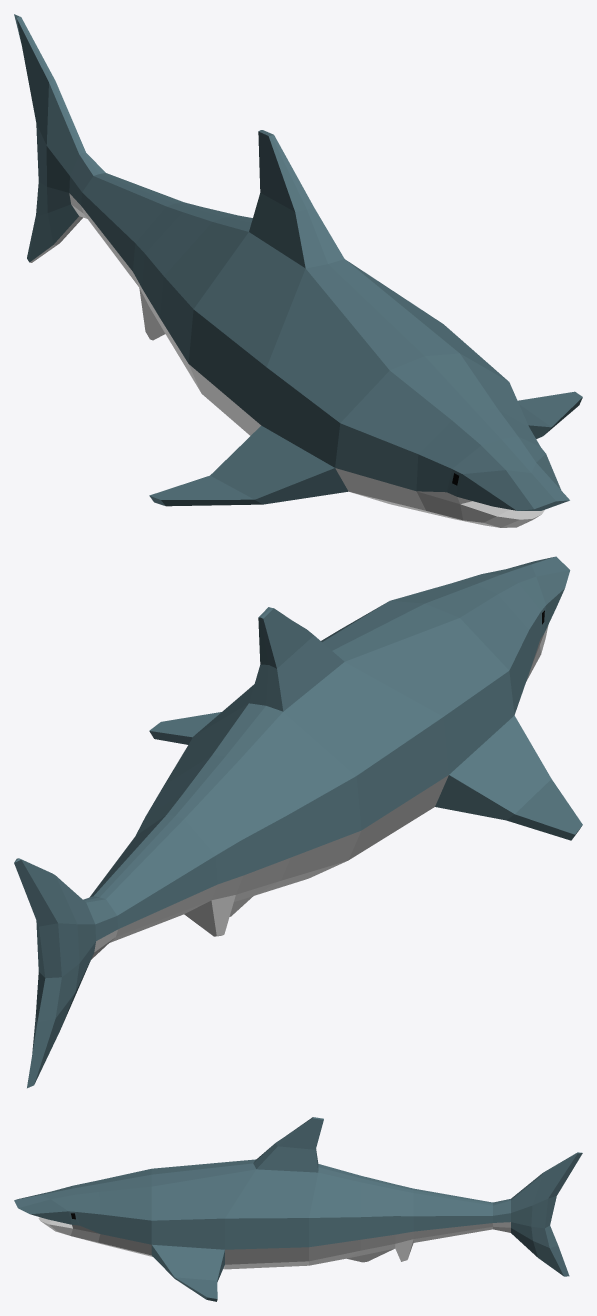
File: shark01.fbx
The picture shows the model from 3 angles, top to bottom: view 1: azimuth 30°, elevation 25°; view 2: azimuth 150°, elevation 25°; view 3: azimuth 270°, elevation 25°; orthographic projection. The views are drawn at different scales.
Parts seen in each view (by area): view 1: shark_01; view 2: shark_01; view 3: shark_01.
Part boxes in pixels (x1,y1,x2,y2): shark_01: [14, 14, 582, 527]; shark_01: [14, 556, 582, 1088]; shark_01: [14, 1117, 582, 1301].
Bounding box in the file's own units: 4.01 × 8.85 × 2.73.
